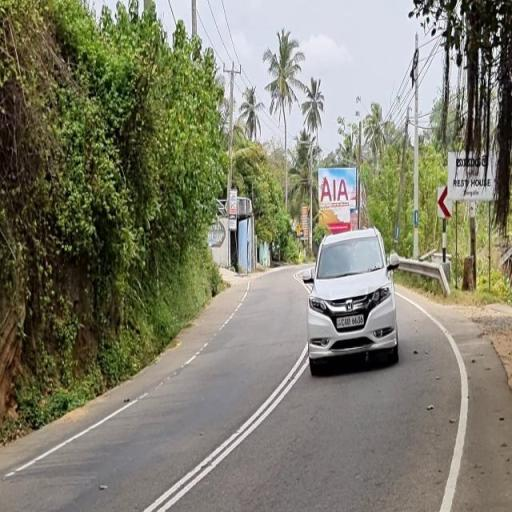double_white_line: (142, 344, 306, 512)
